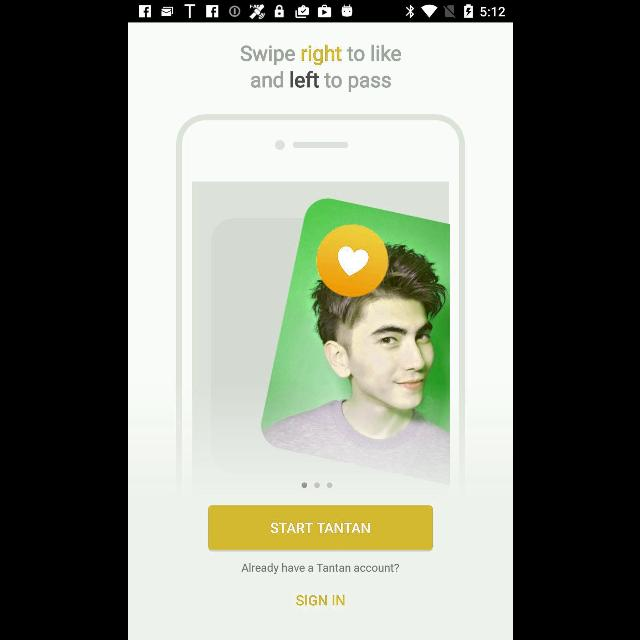image: (176, 114, 466, 483)
pageindicator: (300, 482, 332, 488)
text: (240, 44, 400, 66), (250, 70, 390, 92), (241, 564, 399, 574), (296, 596, 344, 606)
textbutton: (208, 506, 432, 550)
uppertaskbar: (128, 1, 512, 23)
